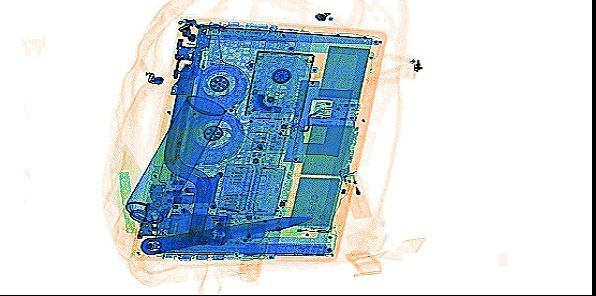knife: (139, 214, 310, 253)
lighter: (337, 165, 371, 219)
pressure: (112, 93, 228, 248)
